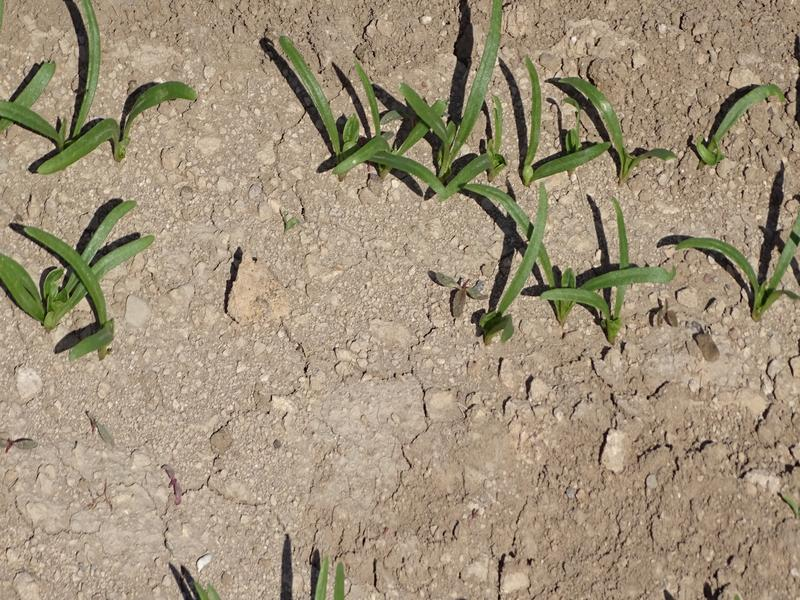Espinaca: (247, 11, 673, 182), (16, 5, 198, 170), (464, 189, 650, 347), (1, 198, 148, 351), (688, 206, 800, 304), (694, 78, 773, 154)
